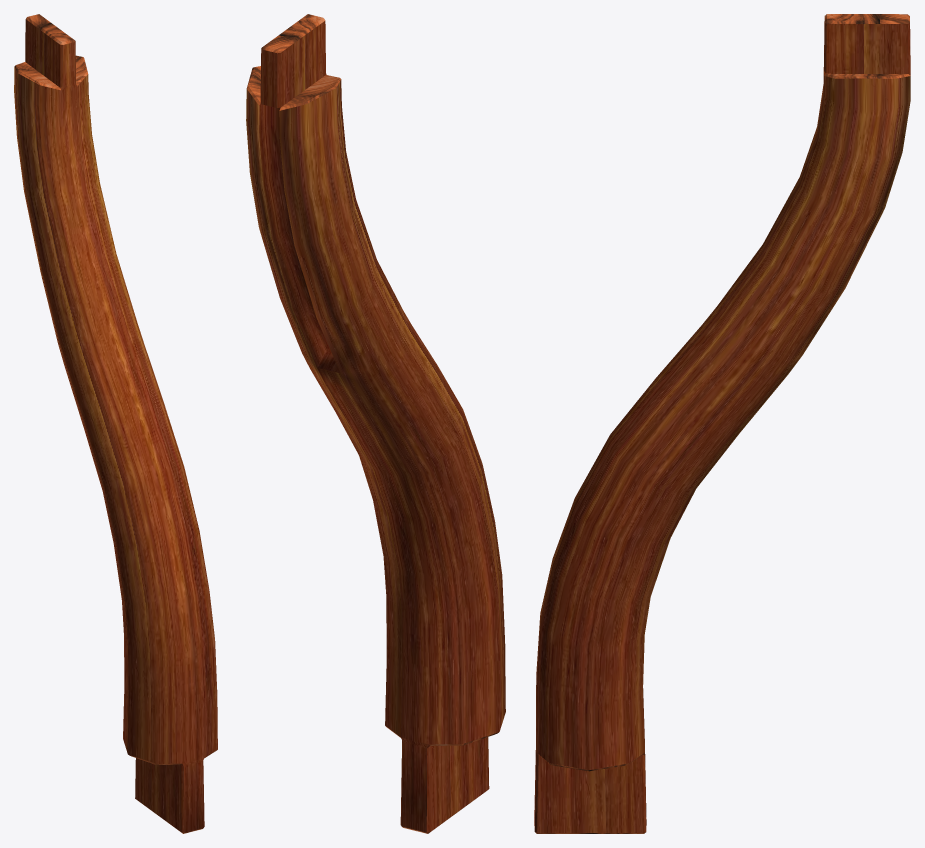
The model's file is GMY_J_ebo_01.FBX.
The picture shows the model from 3 angles, left to right: view 1: azimuth 30°, elevation 25°; view 2: azimuth 150°, elevation 25°; view 3: azimuth 270°, elevation 25°; orthographic projection. The views are drawn at different scales.
Visible parts, largest first — view 1: GMY_J_ebo_01; view 2: GMY_J_ebo_01; view 3: GMY_J_ebo_01.
Boxes of the visible parts, box(x1,y1,x2,y2) form: GMY_J_ebo_01: box(14, 14, 217, 833); GMY_J_ebo_01: box(246, 14, 505, 833); GMY_J_ebo_01: box(534, 14, 910, 833).
Size of the model in its own units: 2.99 by 23.49 by 9.88.
